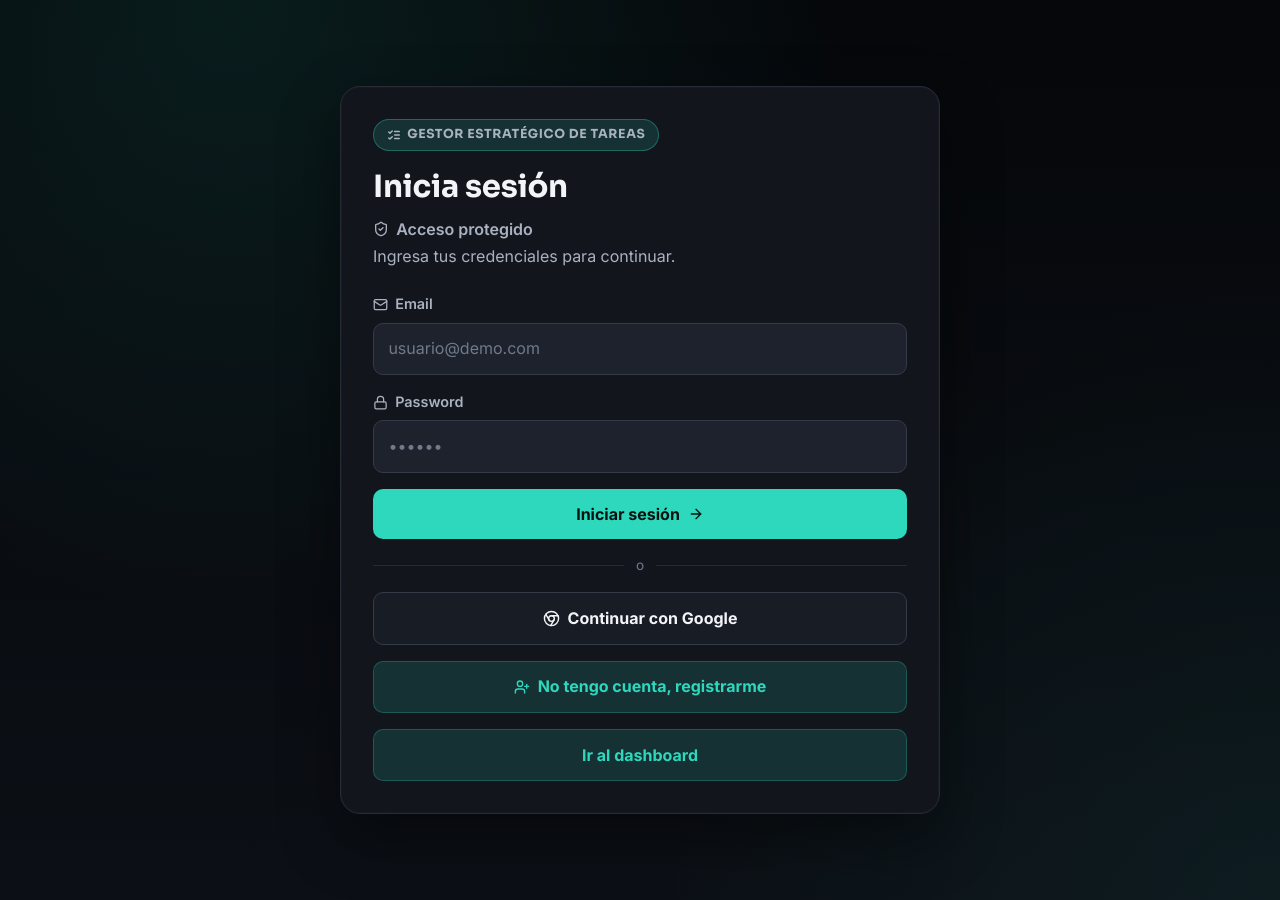
Etapa B1 - autenticacion › permite iniciar sesion con Google y entra al dashboard
The width and height of the screenshot is (1280, 900).
Click the button "Continuar con Google": (640, 618) [373,592,907,645]
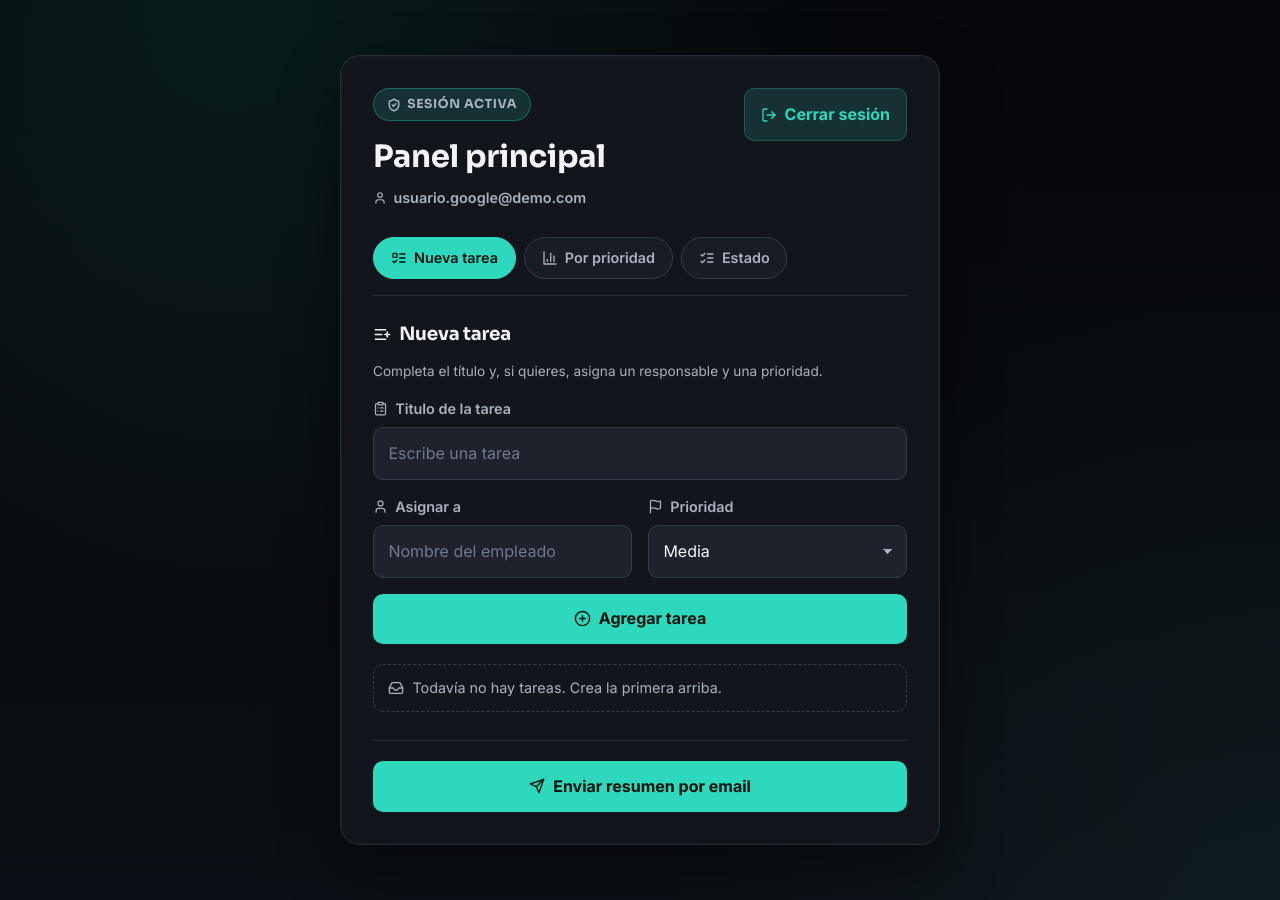
Result: the heading "Panel principal" is shown at [373,133,606,180]
Result: the text "usuario.google@demo.com" is shown at [373,187,606,209]
